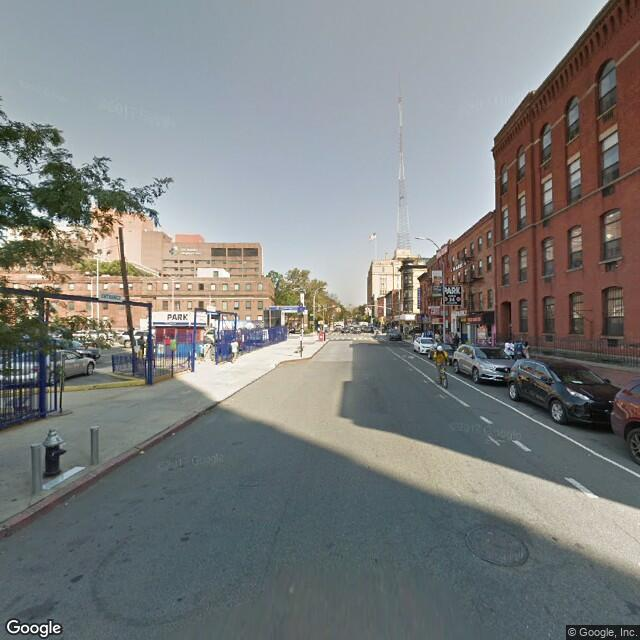litter: (134, 449, 144, 456)
